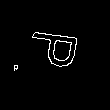P_E: (23, 32, 87, 78)
